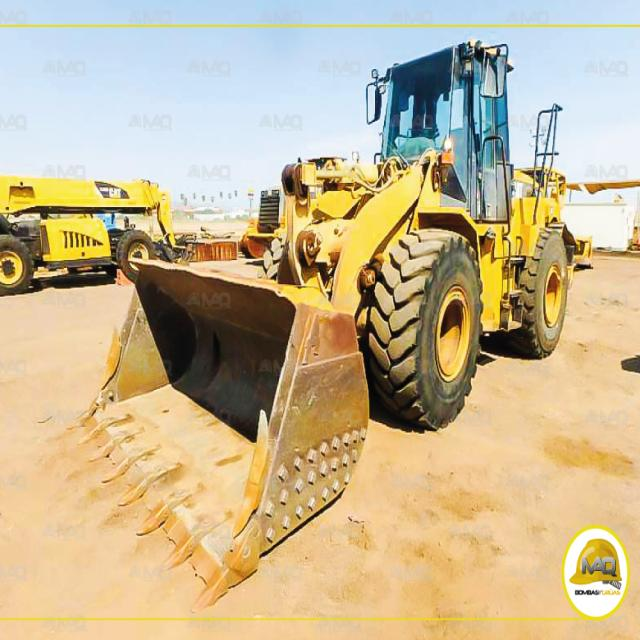buldozerpayloadergrader: (81, 35, 578, 553)
